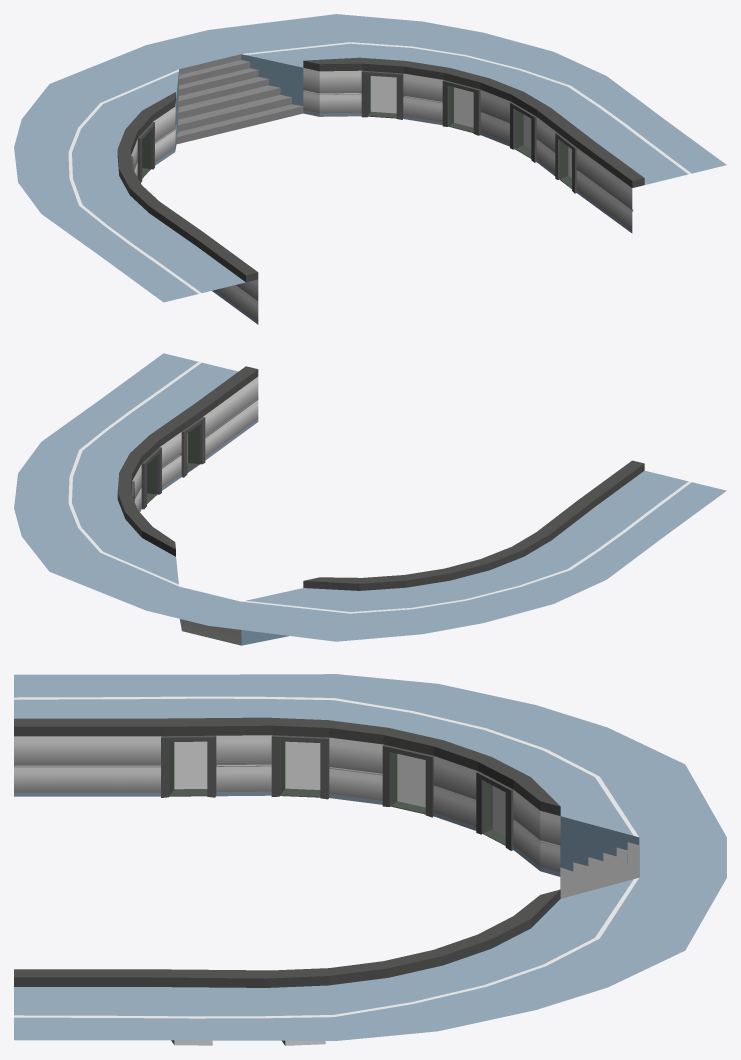
Rendered from 0_1_Wall_7.fbx.
3 views of the same model, one above another, from view 1: azimuth 30°, elevation 25°; view 2: azimuth 150°, elevation 25°; view 3: azimuth 270°, elevation 25° (orthographic). The views are drawn at different scales.
Visible parts, largest first — view 1: 0_1_Wall_7; view 2: 0_1_Wall_7; view 3: 0_1_Wall_7.
Boxes of the visible parts, <box> form: 0_1_Wall_7: <box>14,14,726,324</box>; 0_1_Wall_7: <box>14,353,726,645</box>; 0_1_Wall_7: <box>14,674,726,1045</box>.
Bounding box in the file's own units: 3925 × 349 × 3224.
